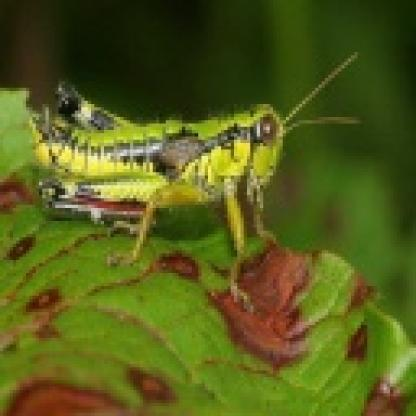grasshopper: (27, 62, 361, 266)
